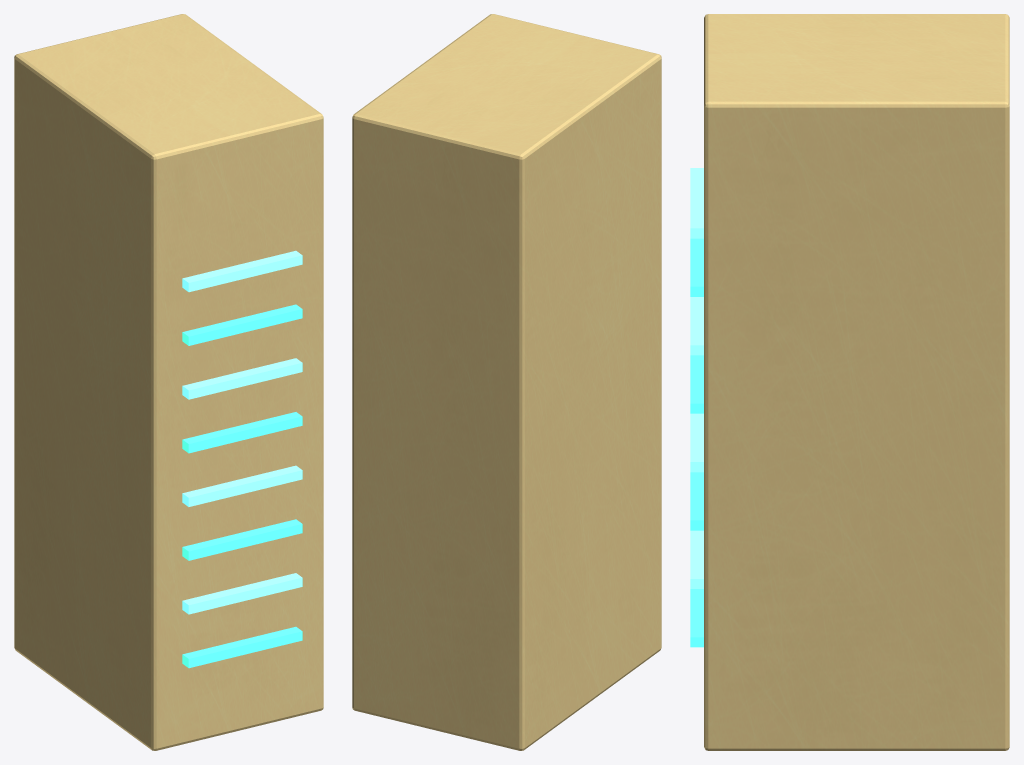
The model's file is mesh_prop-server-rack.glb.
The picture shows the model from 3 angles, left to right: view 1: azimuth 30°, elevation 25°; view 2: azimuth 150°, elevation 25°; view 3: azimuth 270°, elevation 25°; orthographic projection. The views are drawn at different scales.
Visible parts, largest first — view 1: mesh_prop-server-rack; view 2: mesh_prop-server-rack; view 3: mesh_prop-server-rack.
Boxes of the visible parts, left/top/right/bottom form: mesh_prop-server-rack: left=14, top=14, right=323, bottom=750; mesh_prop-server-rack: left=352, top=14, right=661, bottom=750; mesh_prop-server-rack: left=690, top=14, right=1009, bottom=750.
Bounding box in the file's own units: 0.58 × 1.92 × 0.857.
Materials: 8 (1 with a texture image).
